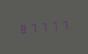eight: (18, 22, 27, 35)
seven: (28, 21, 37, 34), (38, 20, 47, 33), (48, 19, 57, 32), (58, 18, 67, 31)
